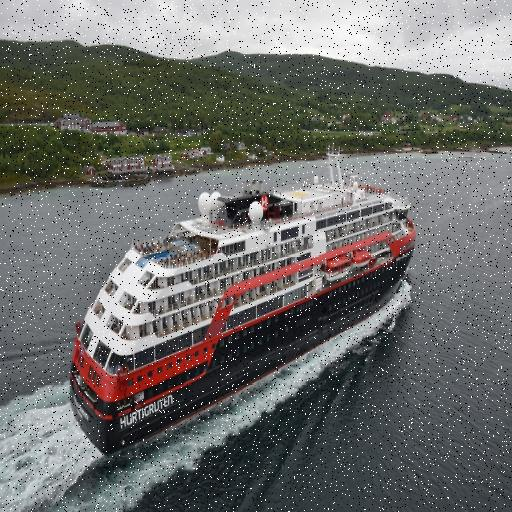cruises: (68, 147, 420, 463)
